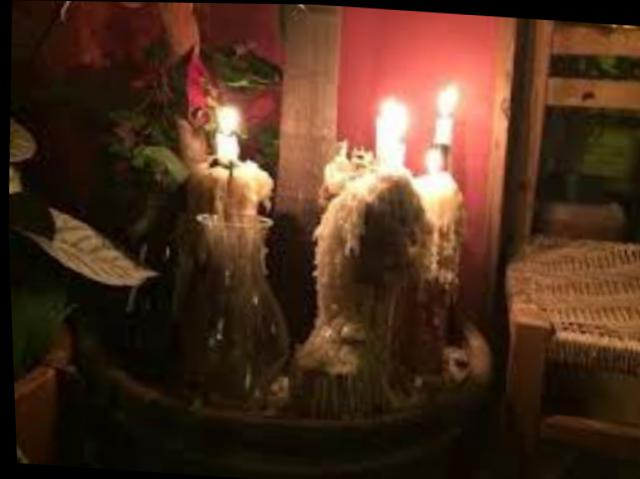fire: (372, 80, 407, 121), (429, 77, 461, 115), (206, 100, 238, 135)
